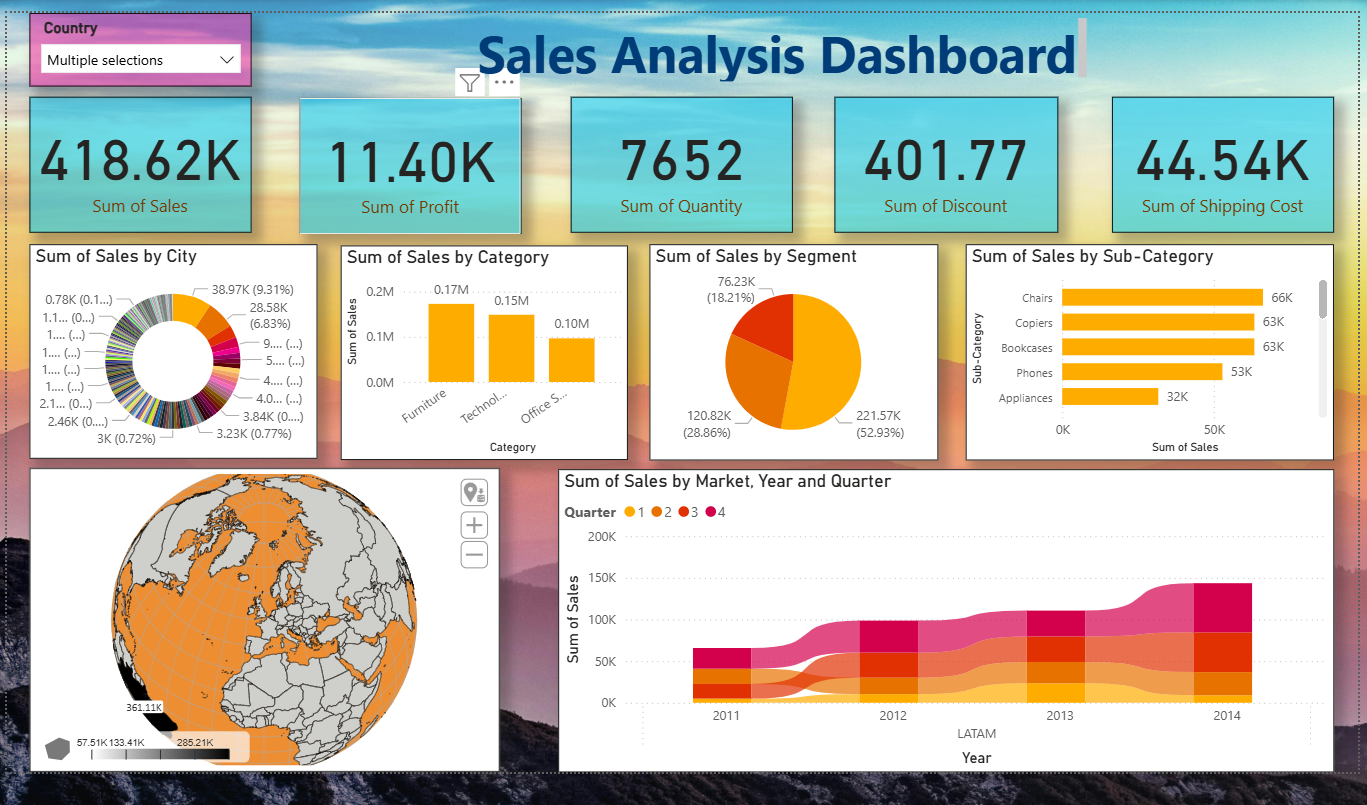

This screenshot's page, from the dashboard's own definition file:
{"tool":"powerbi","page":{"name":"Page 1","canvas":[1280,720],"ordinal":0},"visuals":[{"type":"card","fields":{"Values":["Sum(Orders.Sales)"]},"box":[21.5,79.1,210.3,128.9],"z":0},{"type":"card","fields":{"Values":["Sum(Orders.Profit)"]},"box":[276.7,80.2,210.5,129.1],"z":1000},{"type":"card","fields":{"Values":["Sum(Orders.Quantity)"]},"box":[533.7,79.1,210.5,129.1],"z":2000},{"type":"card","fields":{"Values":["Sum(Orders.Discount)"]},"box":[783.7,79.1,211.6,129.1],"z":3000},{"type":"card","fields":{"Values":["Sum(Orders.Shipping Cost)"]},"box":[1046.5,79.1,210.5,129.1],"z":4000},{"type":"donutChart","fields":{"Y":["Sum(Orders.Sales)"],"Category":["Orders.City"]},"box":[21.5,219.3,272.5,203.5],"z":5000},{"type":"columnChart","fields":{"Y":["Sum(Orders.Sales)"],"Category":["Orders.Category"]},"box":[316.3,219.8,272.1,203.5],"z":6000},{"type":"pieChart","fields":{"Category":["Orders.Segment"],"Y":["Sum(Orders.Sales)"]},"box":[609.3,218.6,273.3,204.7],"z":7000},{"type":"clusteredBarChart","fields":{"Category":["Orders.Sub-Category"],"Y":["Sum(Orders.Sales)"]},"box":[908.1,218.6,348.8,204.7],"z":8000},{"type":"maps","fields":{"name":["Sum(Orders.Sales)"],"measure":["Sum(Orders.Sales)"],"country":["Orders.Country"]},"box":[20.9,431.4,445.4,288.4],"z":9000},{"type":"ribbonChart","fields":{"Y":["Sum(Orders.Sales)"],"Category":["Orders.Market","Orders.Year"],"Series":["Orders.Quarter"]},"box":[522.4,431.9,734.9,287.2],"z":10000},{"type":"slicer","fields":{"Values":["Orders.Country"]},"box":[20.9,0,210.5,69.8],"z":11000},{"type":"textbox","box":[440.7,0,587.2,69.8],"z":12000}]}

Visuals, with their boxes in screenshot pixels (x1, y1, x2, y2):
card - Sum(Orders.Sales): x1=26, y1=94, x2=248, y2=230
card - Sum(Orders.Profit): x1=295, y1=95, x2=517, y2=231
card - Sum(Orders.Quantity): x1=566, y1=94, x2=787, y2=230
card - Sum(Orders.Discount): x1=829, y1=94, x2=1052, y2=230
card - Sum(Orders.Shipping Cost): x1=1106, y1=94, x2=1327, y2=230
donutChart - Sum(Orders.Sales) x Orders.City: x1=26, y1=242, x2=313, y2=456
columnChart - Sum(Orders.Sales) x Orders.Category: x1=337, y1=242, x2=623, y2=456
pieChart - Orders.Segment x Sum(Orders.Sales): x1=645, y1=241, x2=933, y2=456
clusteredBarChart - Orders.Sub-Category x Sum(Orders.Sales): x1=960, y1=241, x2=1327, y2=456
maps - Sum(Orders.Sales) x Sum(Orders.Sales): x1=26, y1=465, x2=495, y2=769
ribbonChart - Sum(Orders.Sales) x Orders.Market: x1=554, y1=466, x2=1328, y2=768
slicer - Orders.Country: x1=26, y1=11, x2=247, y2=84
textbox: x1=468, y1=11, x2=1086, y2=84
